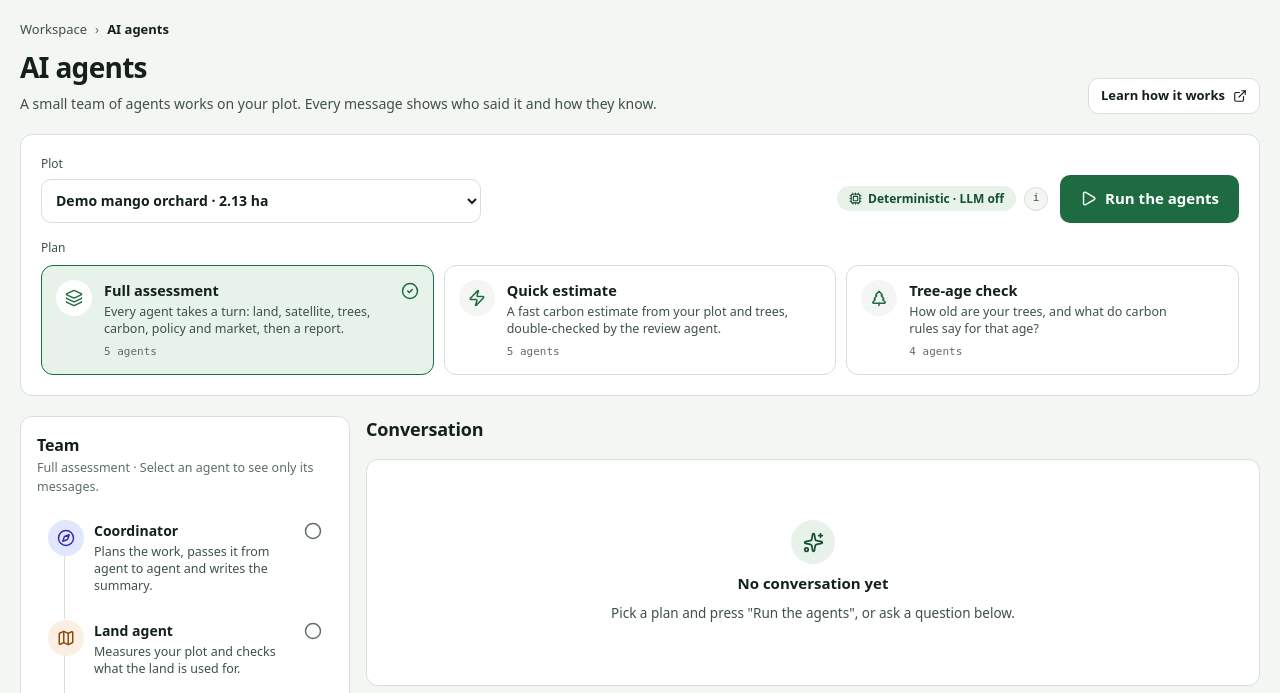
AgentsPage › answers a suggested question and replaces the conversation with the answer
Click the button "Run the agents" at (1150, 198), box x1=1060 y1=174 x2=1239 y2=222
(page scrolled)
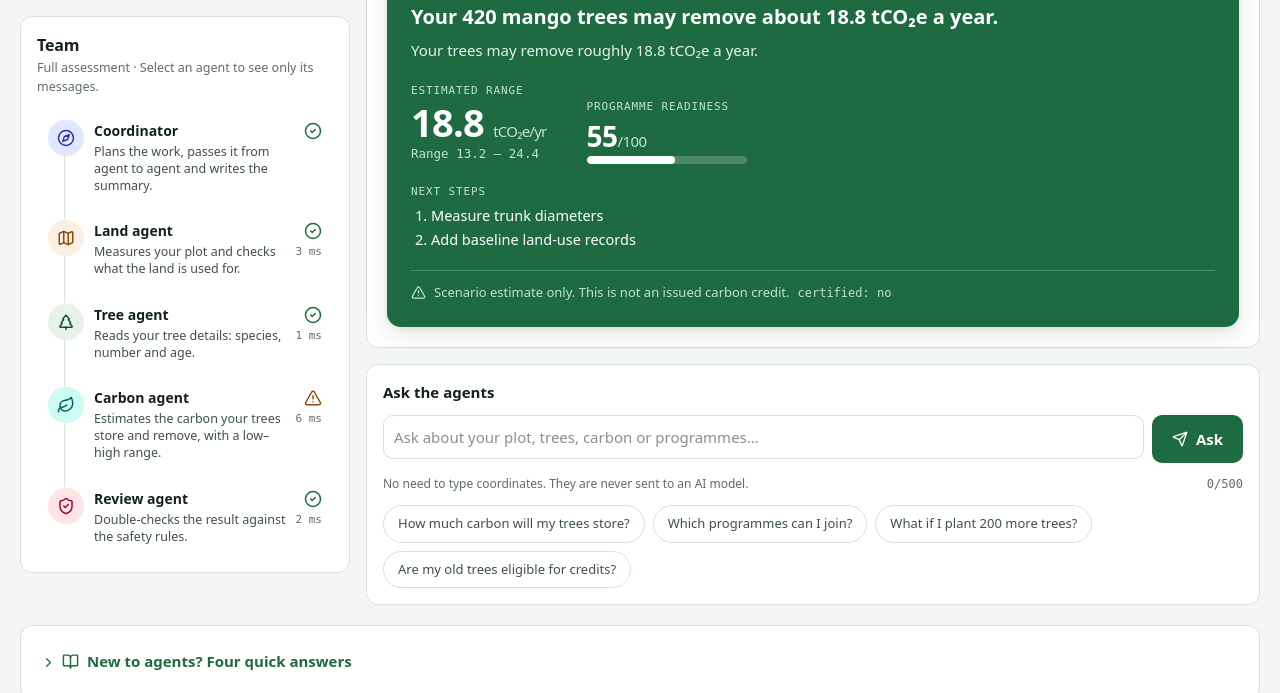
Click the button "Which programmes can I join?" at (760, 524), box x1=653 y1=505 x2=867 y2=543
(page scrolled)
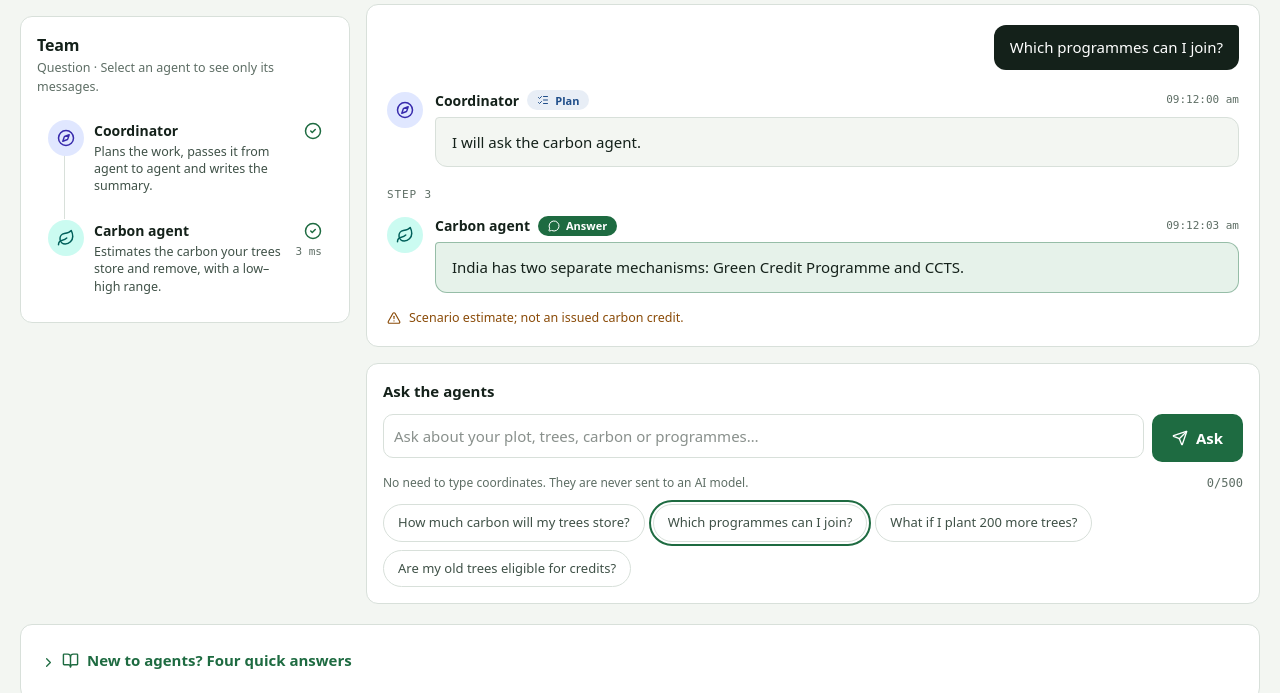
expect the text "India has two separate mechanisms" is shown: met, box x1=452 y1=257 x2=964 y2=277
expect the text "Which programmes can I join?" is shown: met, box x1=994 y1=25 x2=1239 y2=70
